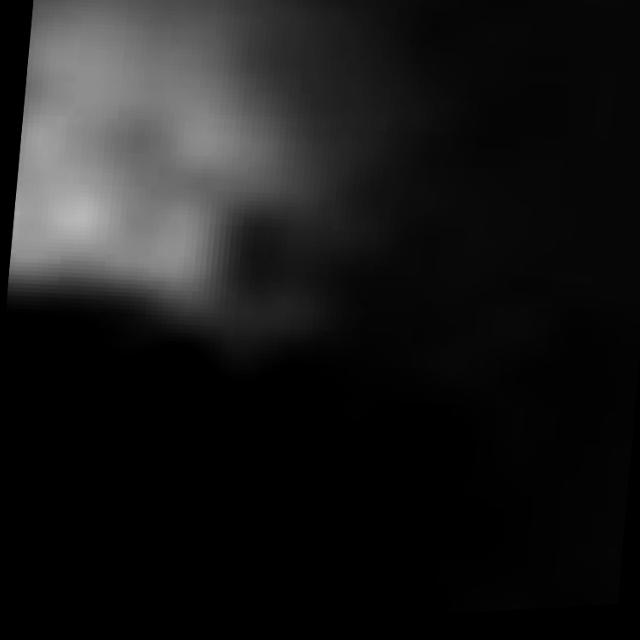person: (1, 1, 421, 362)
